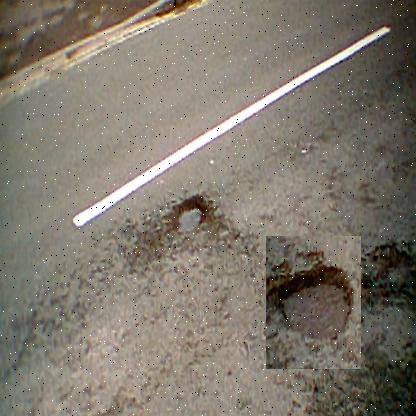pothole: (266, 236, 362, 370)
pothole_water: (160, 188, 216, 243)
